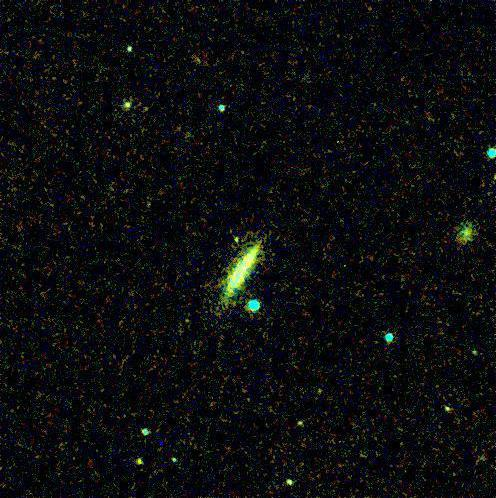star: (219, 220, 249, 250)
